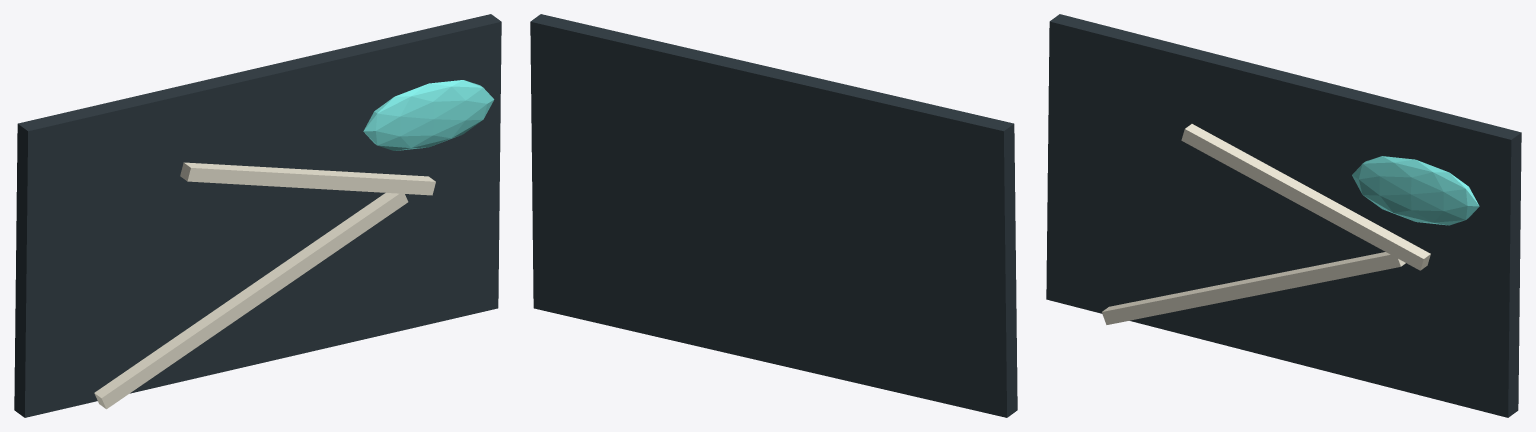
File: 05_weathering_wear_overlay_5.glb
3 views of the same model, side by side, from view 1: azimuth 30°, elevation 25°; view 2: azimuth 150°, elevation 25°; view 3: azimuth 330°, elevation 25° (orthographic). The views are drawn at different scales.
Visible parts, largest first — view 1: wear_plate, scratch_a, rust_or_moss_spot, scratch_b; view 2: wear_plate; view 3: wear_plate, rust_or_moss_spot, scratch_b, scratch_a.
Boxes of the visible parts, x1=… form: wear_plate: x1=14, y1=14, x2=501, y2=417; scratch_a: x1=94, y1=193, x2=408, y2=409; rust_or_moss_spot: x1=363, y1=80, x2=494, y2=150; scratch_b: x1=180, y1=162, x2=435, y2=195; wear_plate: x1=530, y1=14, x2=1017, y2=417; wear_plate: x1=1046, y1=14, x2=1521, y2=417; rust_or_moss_spot: x1=1352, y1=156, x2=1479, y2=225; scratch_b: x1=1181, y1=124, x2=1430, y2=270; scratch_a: x1=1102, y1=252, x2=1405, y2=324.
Bounding box in the file's own units: 1.31 × 0.7655 × 0.134.
